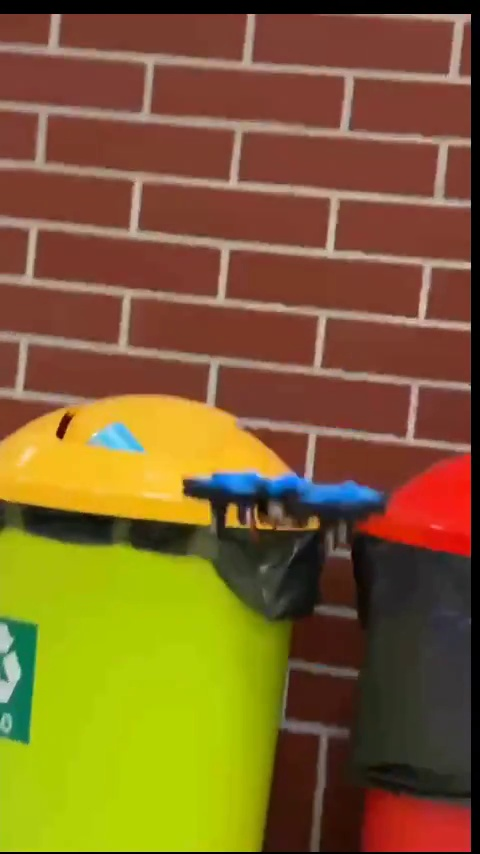drone: (186, 468, 384, 544)
